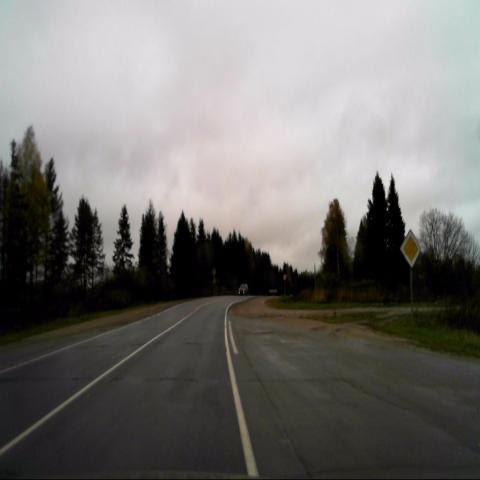2_1: (400, 228, 421, 268)
